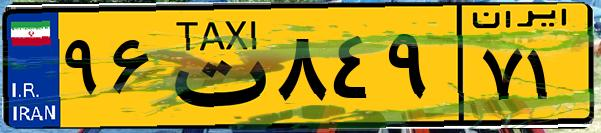1: (525, 38, 570, 115)
4: (330, 28, 385, 110)
6: (110, 28, 158, 98)
7: (475, 38, 525, 113)
8: (270, 28, 330, 110)
9: (385, 28, 445, 110), (57, 26, 110, 100)
ت: (158, 12, 270, 120)
